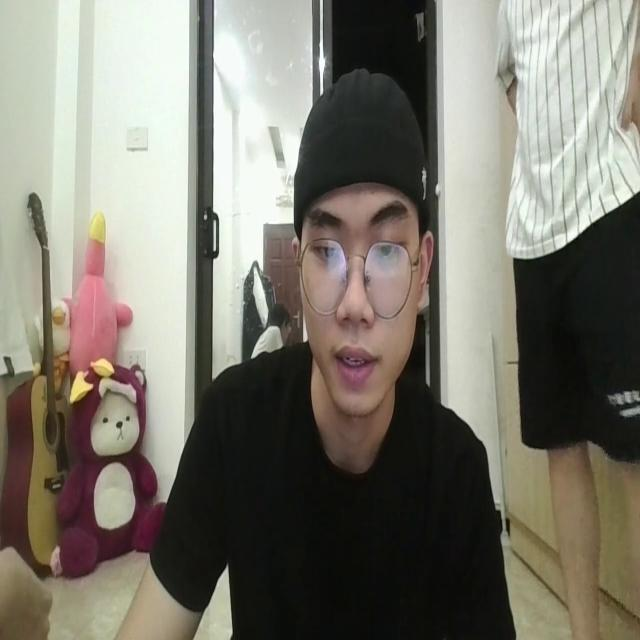extra_person: (483, 0, 640, 640)
student: (123, 64, 519, 640)
